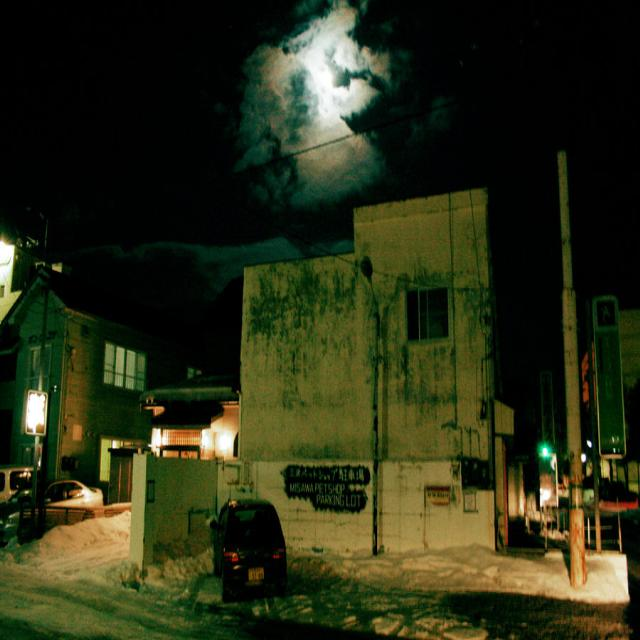car: (209, 499, 300, 604), (14, 474, 121, 535)
